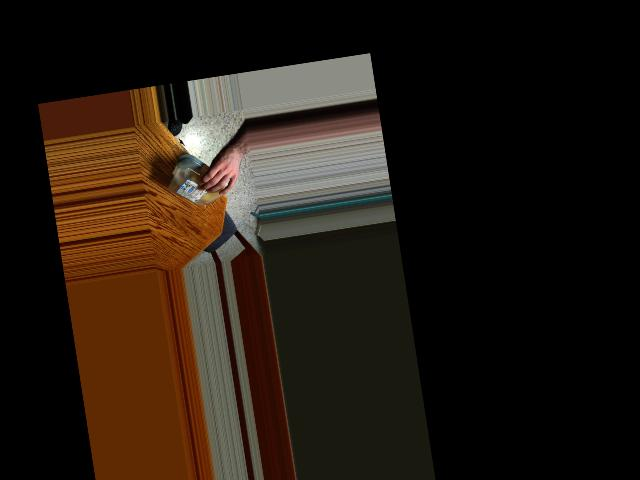cheese: (164, 149, 235, 210)
